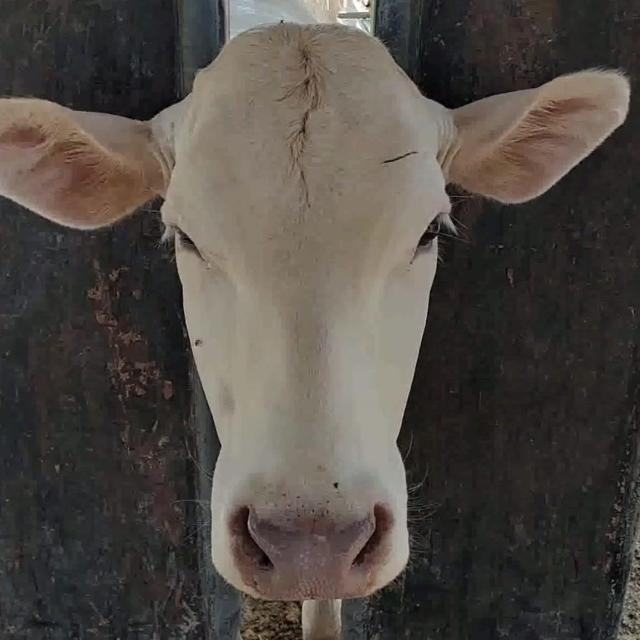cowFace: (162, 21, 452, 598)
